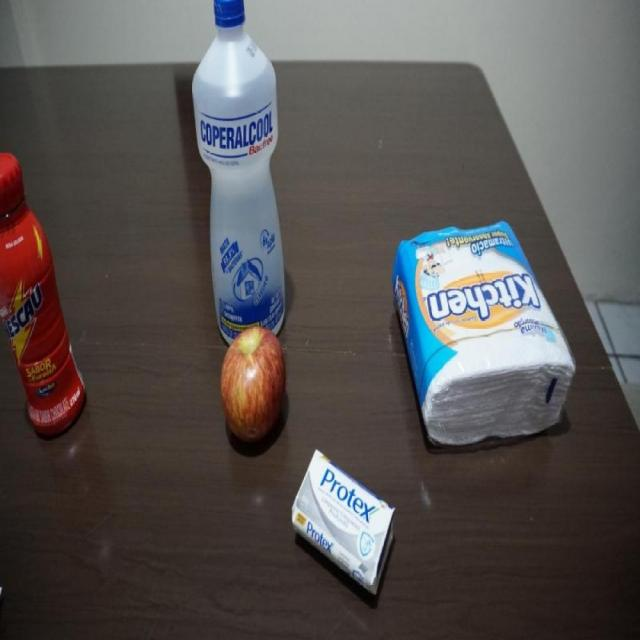AlcoholBottle: (193, 5, 295, 340)
Apple: (216, 322, 289, 438)
ChocolateMilk: (0, 152, 88, 438)
Napkin: (392, 224, 581, 440)
Soap: (293, 445, 397, 597)
